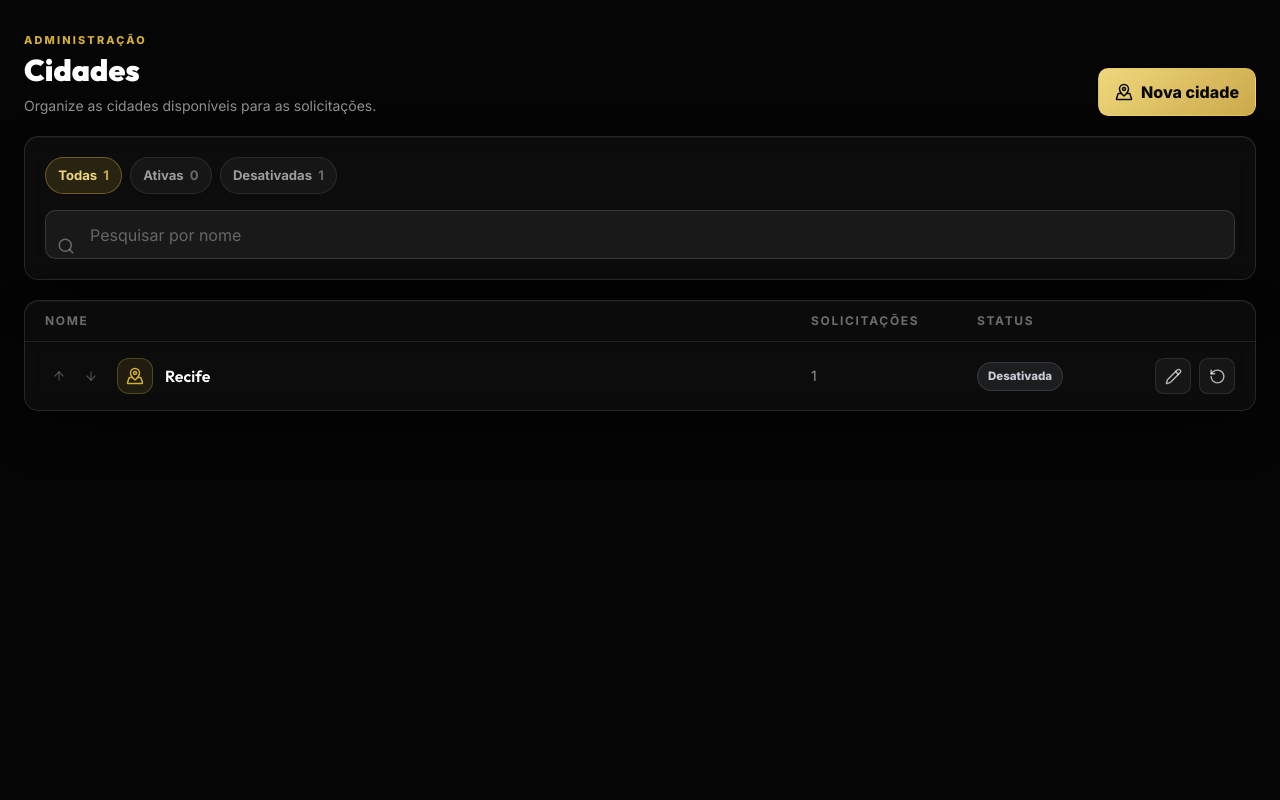
it: CitiesPanel › não deixa resposta atrasada de reactivate vencer um UPDATE Realtime posterior
The image size is (1280, 800).
Step 1. Click the button named "Reativar Recife" → (1217, 376), box 1199,358 -> 1235,394
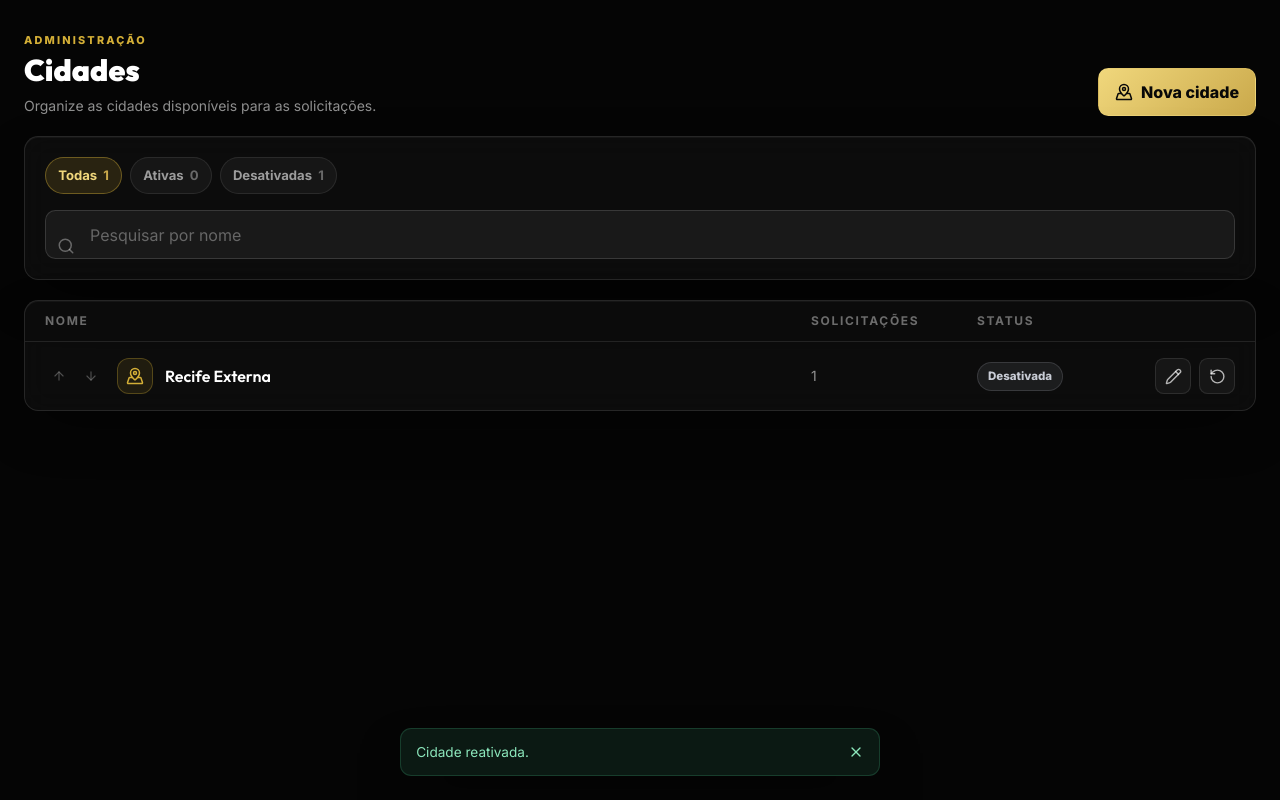
Expected: the heading "Recife Externa" is shown, 165,364 -> 271,388
